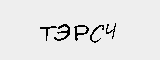Р: (73, 24, 87, 45)
С: (90, 22, 105, 44)
Т: (40, 24, 55, 41)
Ч: (104, 22, 117, 40)
Э: (54, 22, 72, 42)
